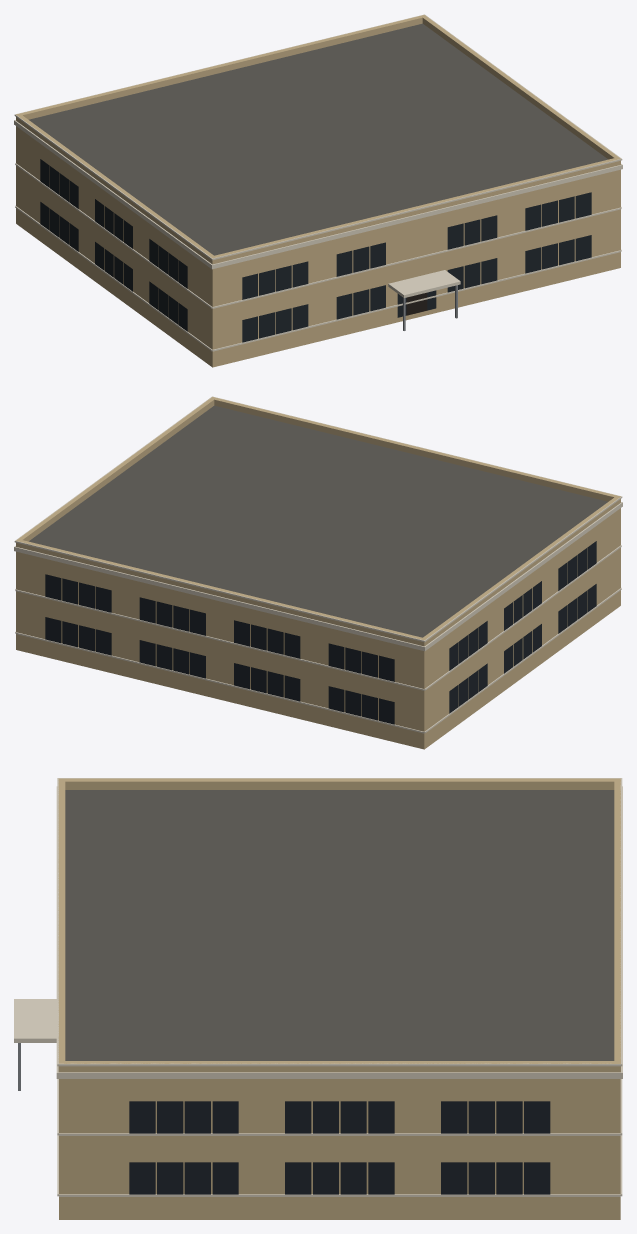
The model's file is catholic-high-school-1961.glb.
The picture shows the model from 3 angles, top to bottom: view 1: azimuth 30°, elevation 25°; view 2: azimuth 150°, elevation 25°; view 3: azimuth 270°, elevation 25°; orthographic projection. The views are drawn at different scales.
Visible parts, largest first — view 1: kit-catholic-high-school-1961; view 2: kit-catholic-high-school-1961; view 3: kit-catholic-high-school-1961.
Part boxes in pixels (<box>): kit-catholic-high-school-1961: <box>14,14,622,367</box>; kit-catholic-high-school-1961: <box>14,396,622,749</box>; kit-catholic-high-school-1961: <box>14,778,622,1219</box>.
Bounding box in the file's own units: 36.24 × 9.2 × 32.52.
